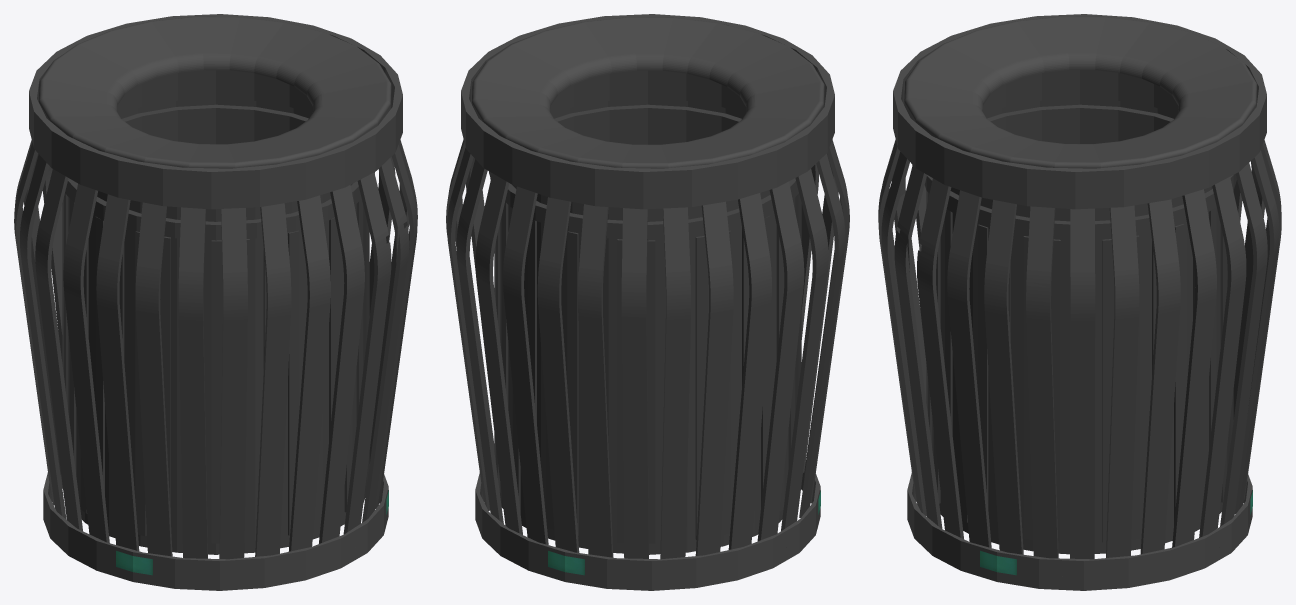
3 renders of one model, left to right at view 1: azimuth 30°, elevation 25°; view 2: azimuth 150°, elevation 25°; view 3: azimuth 270°, elevation 25°, orthographic.
Parts seen in each view (by area): view 1: mesh76_mesh76-geometry, mesh191_mesh191-geometry, mesh120_mesh120-geometry, mesh103_mesh103-geometry, mesh170_mesh170-geometry, mesh167_mesh167-geometry, mesh188_mesh188-geometry, mesh173_mesh173-geometry, mesh185_mesh185-geometry, mesh176_mesh176-geometry, mesh182_mesh182-geometry, mesh179_mesh179-geometry (+23 smaller); view 2: mesh76_mesh76-geometry, mesh191_mesh191-geometry, mesh120_mesh120-geometry, mesh103_mesh103-geometry, mesh131_mesh131-geometry, mesh111_mesh111-geometry, mesh149_mesh149-geometry, mesh114_mesh114-geometry, mesh108_mesh108-geometry, mesh146_mesh146-geometry, mesh143_mesh143-geometry, mesh97_mesh97-geometry (+21 smaller); view 3: mesh76_mesh76-geometry, mesh191_mesh191-geometry, mesh120_mesh120-geometry, mesh103_mesh103-geometry, mesh161_mesh161-geometry, mesh128_mesh128-geometry, mesh158_mesh158-geometry, mesh164_mesh164-geometry, mesh140_mesh140-geometry, mesh152_mesh152-geometry, mesh137_mesh137-geometry, mesh155_mesh155-geometry (+20 smaller).
Part boxes in pixels (x1,y1,x2,y2): mesh76_mesh76-geometry: [65, 70, 374, 554]; mesh191_mesh191-geometry: [38, 16, 391, 168]; mesh120_mesh120-geometry: [29, 14, 402, 209]; mesh103_mesh103-geometry: [43, 472, 388, 590]; mesh170_mesh170-geometry: [178, 207, 207, 558]; mesh167_mesh167-geometry: [219, 208, 247, 559]; mesh188_mesh188-geometry: [255, 203, 291, 556]; mesh173_mesh173-geometry: [135, 202, 172, 556]; mesh185_mesh185-geometry: [288, 195, 330, 551]; mesh176_mesh176-geometry: [96, 194, 139, 551]; mesh182_mesh182-geometry: [319, 185, 364, 543]; mesh179_mesh179-geometry: [63, 183, 109, 543]; mesh76_mesh76-geometry: [489, 70, 798, 554]; mesh191_mesh191-geometry: [472, 17, 824, 168]; mesh120_mesh120-geometry: [461, 14, 834, 209]; mesh103_mesh103-geometry: [475, 461, 820, 590]; mesh131_mesh131-geometry: [660, 207, 690, 559]; mesh111_mesh111-geometry: [621, 208, 648, 558]; mesh149_mesh149-geometry: [578, 204, 613, 557]; mesh114_mesh114-geometry: [695, 201, 733, 555]; mesh108_mesh108-geometry: [537, 197, 579, 552]; mesh146_mesh146-geometry: [728, 193, 771, 549]; mesh143_mesh143-geometry: [503, 186, 548, 544]; mesh97_mesh97-geometry: [757, 181, 804, 541]; mesh76_mesh76-geometry: [924, 70, 1236, 554]; mesh191_mesh191-geometry: [904, 16, 1256, 168]; mesh120_mesh120-geometry: [893, 14, 1266, 209]; mesh103_mesh103-geometry: [907, 472, 1252, 590]; mesh161_mesh161-geometry: [1026, 206, 1058, 558]; mesh128_mesh128-geometry: [1106, 205, 1139, 557]; mesh158_mesh158-geometry: [1070, 208, 1095, 559]; mesh164_mesh164-geometry: [984, 200, 1023, 554]; mesh140_mesh140-geometry: [1140, 199, 1180, 554]; mesh152_mesh152-geometry: [947, 190, 991, 547]; mesh137_mesh137-geometry: [1172, 189, 1216, 547]; mesh155_mesh155-geometry: [917, 178, 963, 538].
Bounding box in the file's own units: 0.5445 × 0.6378 × 0.5447.
